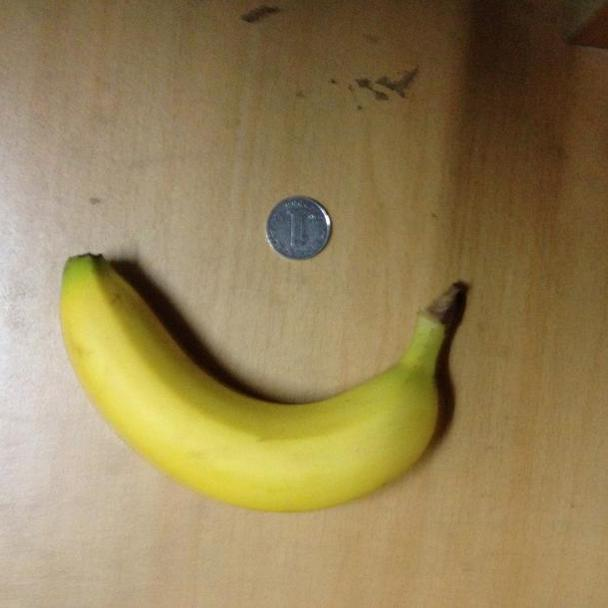banana: (45, 252, 476, 517)
